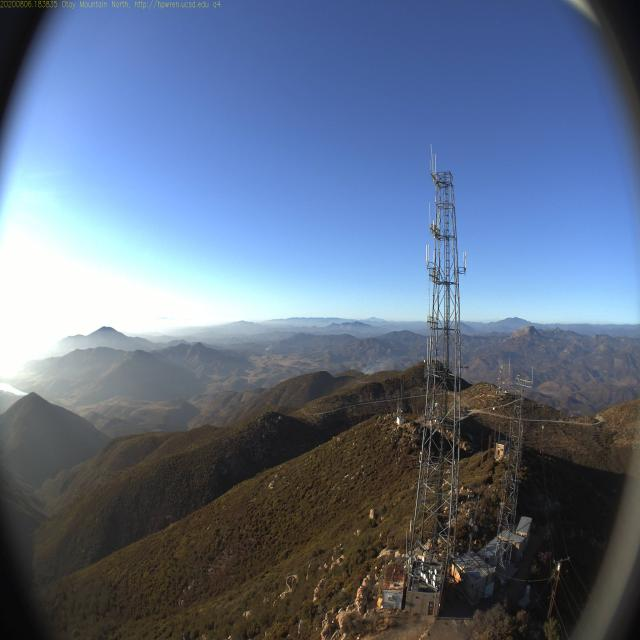smoke: (358, 354, 389, 379)
